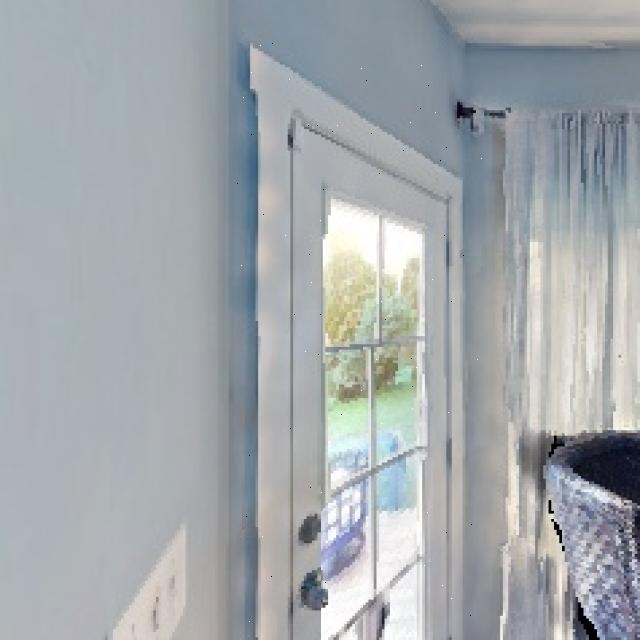door: (234, 43, 484, 640)
